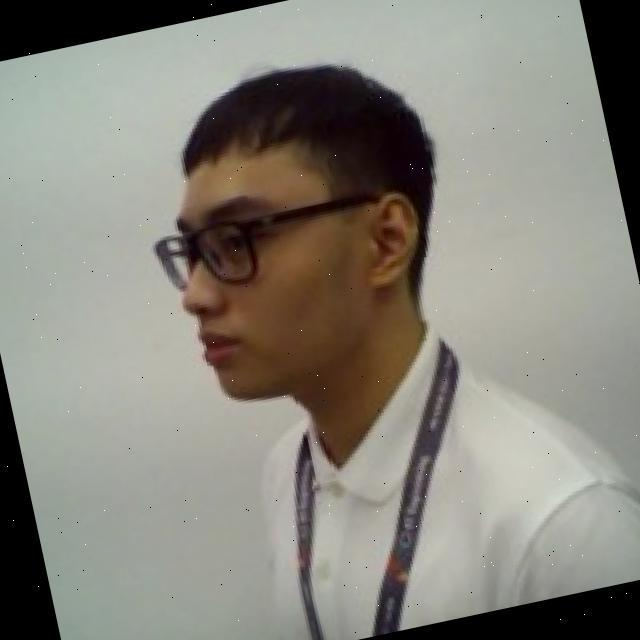no_gloves: (140, 27, 446, 240)
no_hairnet: (165, 187, 452, 424)
